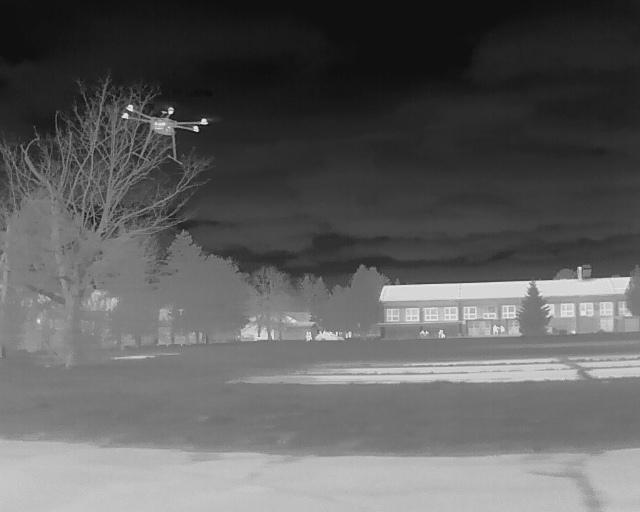drone: (110, 94, 226, 172)
